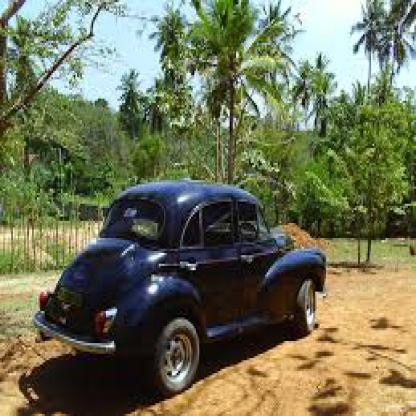car: (29, 183, 326, 392)
